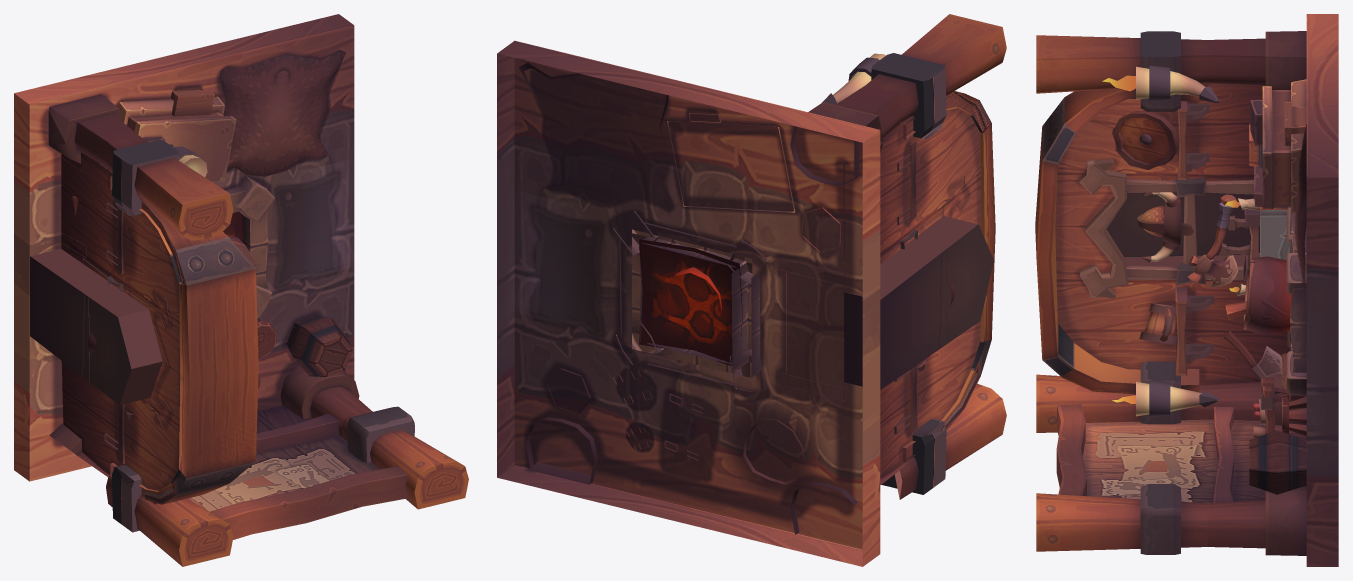
Rendered from viking_room.obj.
3 views of the same model, side by side, from view 1: azimuth 30°, elevation 25°; view 2: azimuth 150°, elevation 25°; view 3: azimuth 270°, elevation 25° (orthographic). The views are drawn at different scales.
Parts seen in each view (by area): view 1: mesh_all1_Texture1_0; view 2: mesh_all1_Texture1_0; view 3: mesh_all1_Texture1_0.
Part boxes in pixels (x1,y1,x2,y2): mesh_all1_Texture1_0: (14,14,468,566); mesh_all1_Texture1_0: (497,14,1006,566); mesh_all1_Texture1_0: (1035,14,1338,566).
Bounding box in the file's own units: 1.33 × 1.46 × 1.03.
